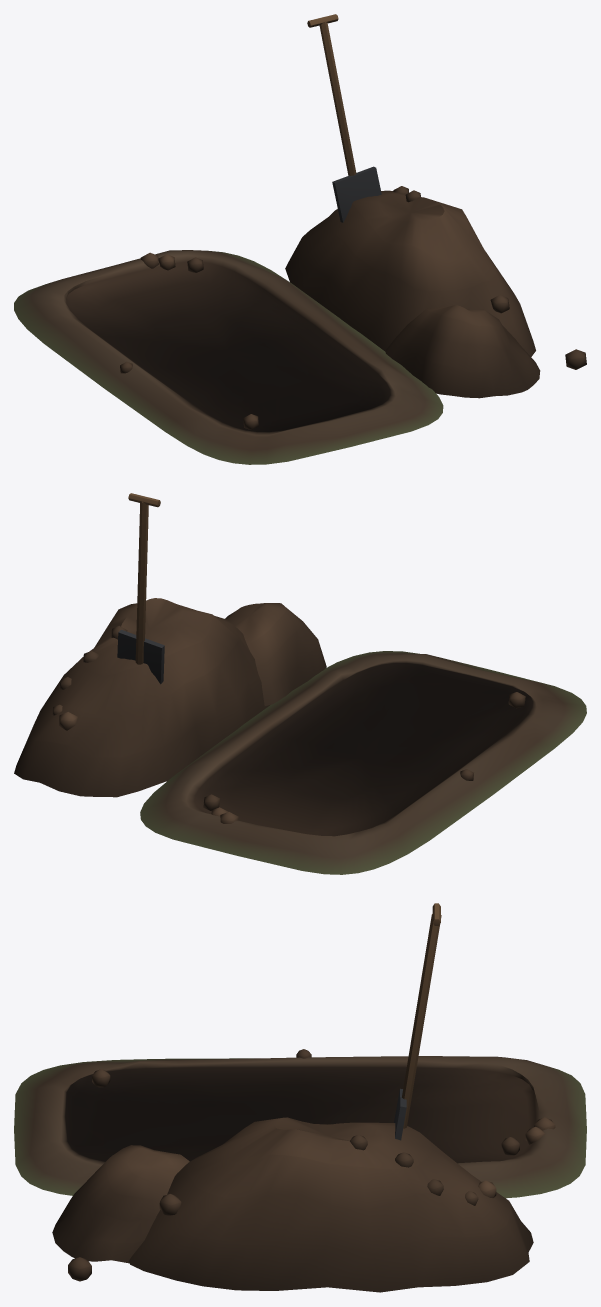
Rendered from ph_prop_grave_pit.glb.
3 views of the same model, one above another, from view 1: azimuth 30°, elevation 25°; view 2: azimuth 150°, elevation 25°; view 3: azimuth 270°, elevation 25° (orthographic). The views are drawn at different scales.
Parts seen in each view (by area): view 1: ph_prop_grave_pit; view 2: ph_prop_grave_pit; view 3: ph_prop_grave_pit.
Part boxes in pixels (x1,y1,x2,y2): ph_prop_grave_pit: (14, 14, 586, 464); ph_prop_grave_pit: (14, 493, 586, 874); ph_prop_grave_pit: (14, 903, 586, 1292).
Bounding box in the file's own units: 2.3 × 1.48 × 2.44.
